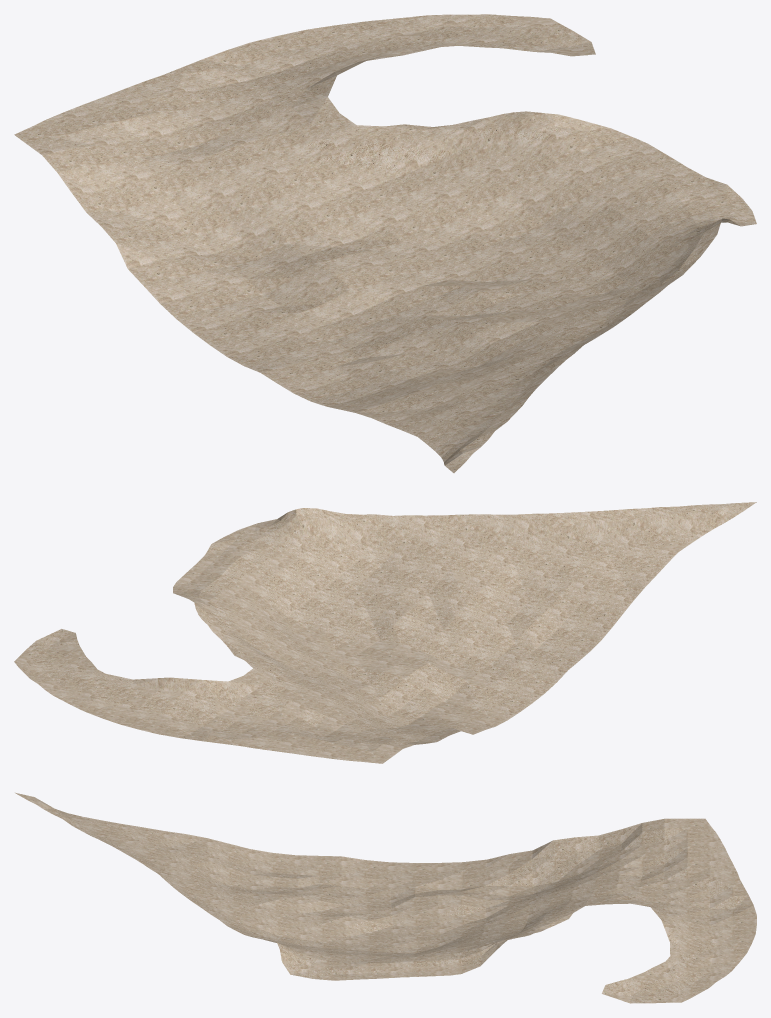
File: c_carisle_mid_seabed_05.fbx
The picture shows the model from 3 angles, top to bottom: view 1: azimuth 30°, elevation 25°; view 2: azimuth 150°, elevation 25°; view 3: azimuth 270°, elevation 25°; orthographic projection. The views are drawn at different scales.
Visible parts, largest first — view 1: c_carisle_mid_seabed_05; view 2: c_carisle_mid_seabed_05; view 3: c_carisle_mid_seabed_05.
Part boxes in pixels (x1,y1,x2,y2): c_carisle_mid_seabed_05: [14, 14, 756, 472]; c_carisle_mid_seabed_05: [14, 502, 756, 763]; c_carisle_mid_seabed_05: [15, 792, 756, 1003].
Size of the model in its own units: 42.18 by 66.49 by 6.78.
